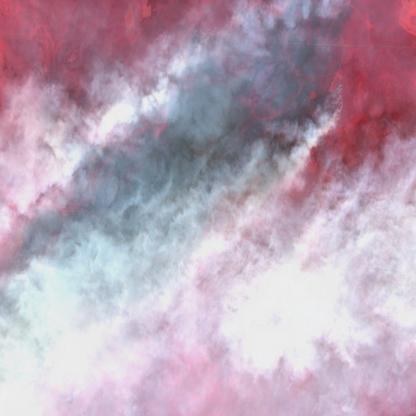fire: (0, 0, 347, 416)
